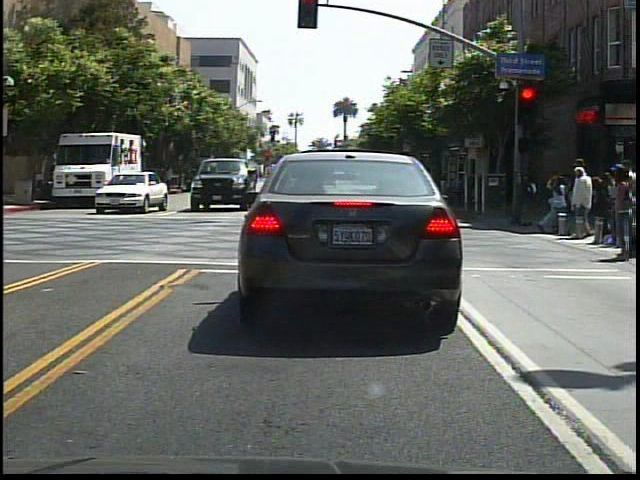person: (568, 161, 601, 250), (390, 159, 423, 224), (522, 165, 542, 229)
